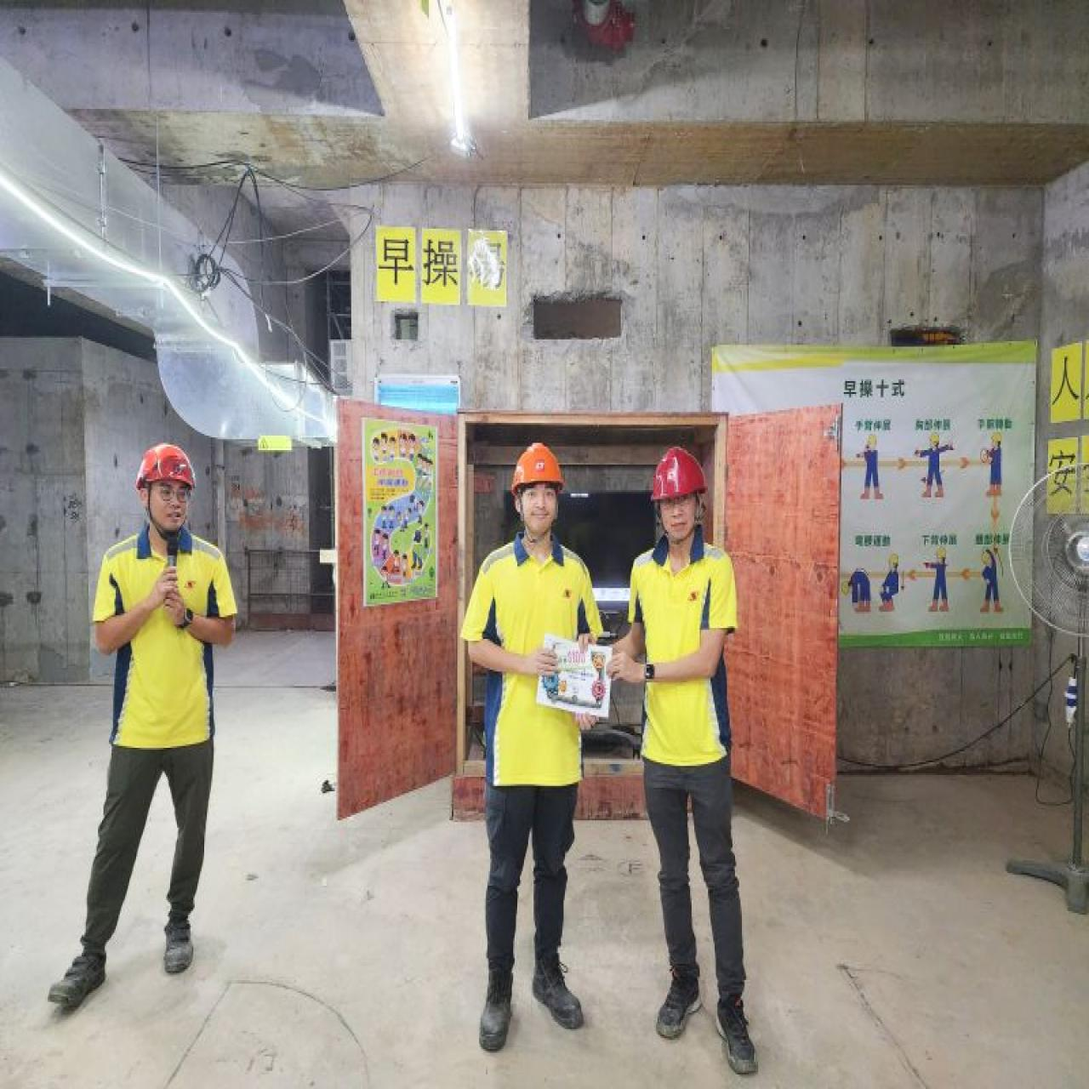NO_Safety_Vest: (460, 533, 603, 787), (89, 527, 235, 748), (624, 536, 739, 770)
Person: (33, 432, 249, 1024), (614, 427, 773, 1078), (455, 429, 613, 1076)
